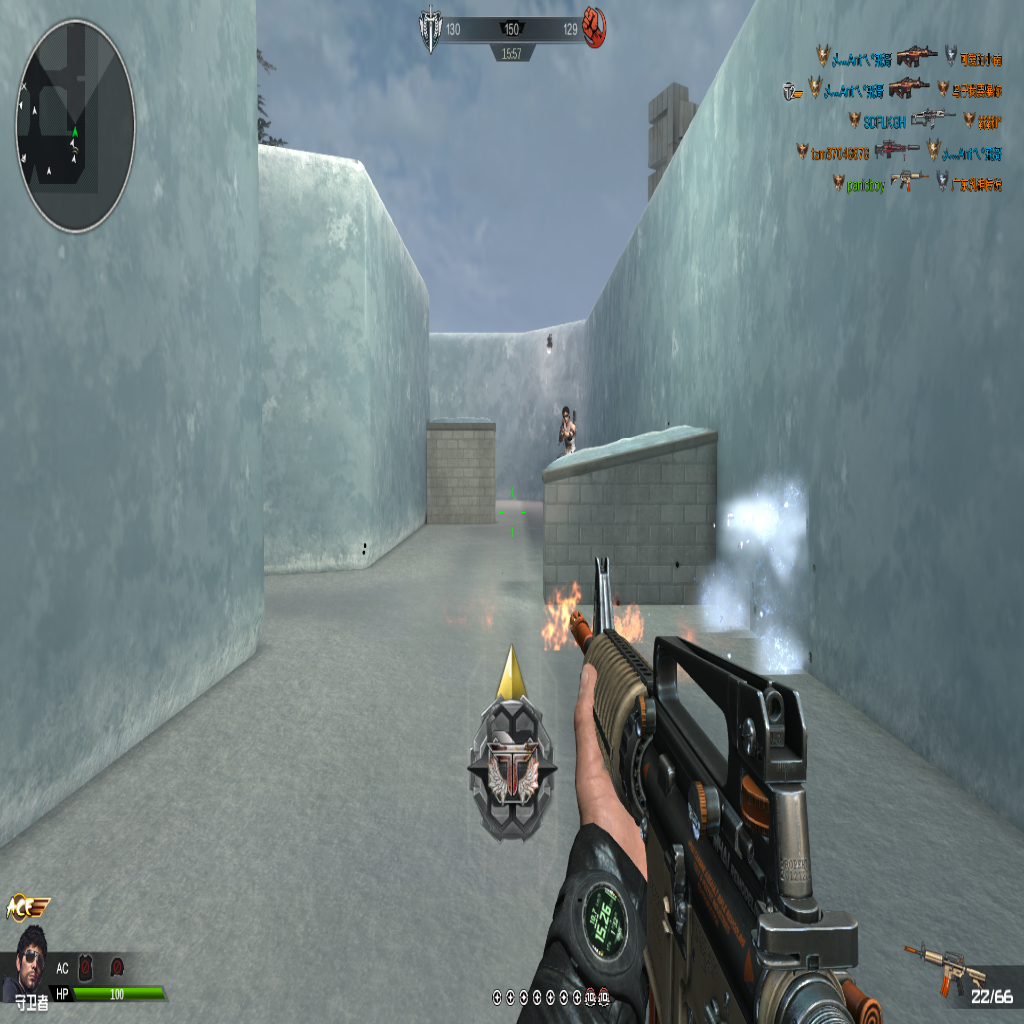tt: (560, 407, 577, 455)
